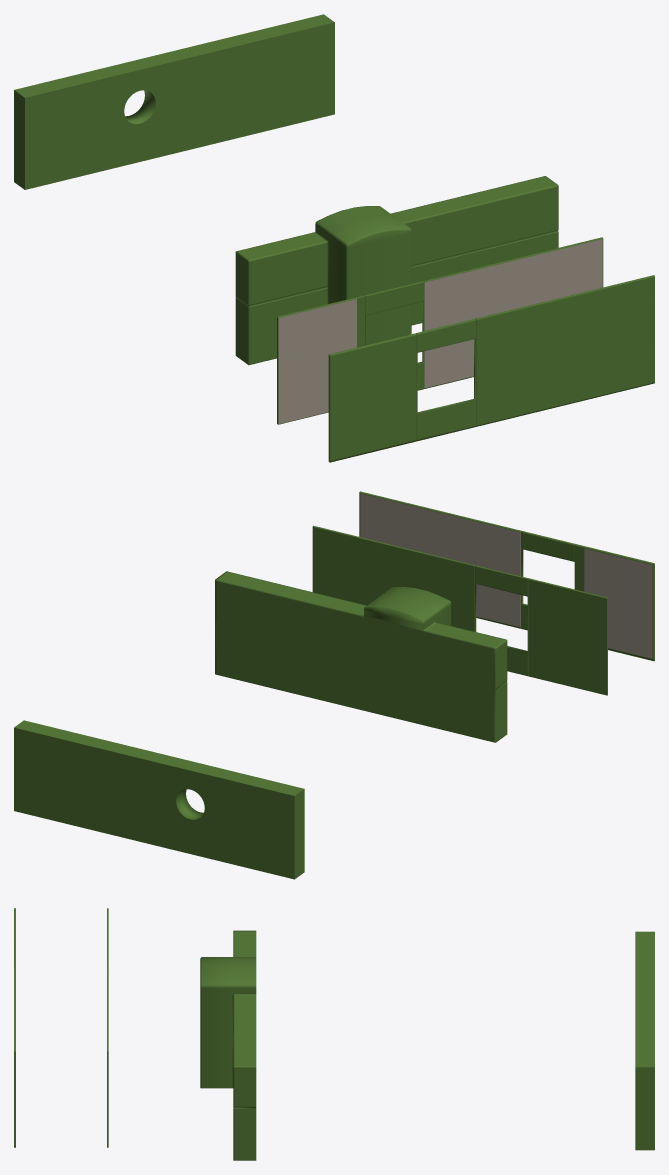
Rendered from side01.fbx.
3 renders of one model, top to bottom at view 1: azimuth 30°, elevation 25°; view 2: azimuth 150°, elevation 25°; view 3: azimuth 270°, elevation 25°, orthographic. The views are drawn at different scales.
Parts seen in each view (by area): view 1: right.001, Cube.072, left.001, Cube.157; view 2: left.001, right.001, Cube.157, Cube.072; view 3: left.001, right.001, Cube.072, Cube.157.
Boxes of the visible parts, x1,y1,x2,y2 form: right.001: (14,14,334,189); Cube.072: (328,275,654,462); left.001: (235,176,558,365); Cube.157: (277,237,603,424); left.001: (215,571,507,742); right.001: (14,720,304,879); Cube.157: (312,525,607,695); Cube.072: (359,491,654,661); left.001: (200,930,256,1160); right.001: (635,931,654,1150); Cube.072: (14,908,15,1147); Cube.157: (107,908,108,1147).
Size of the model in its own units: 4655 by 1515 by 8199.
